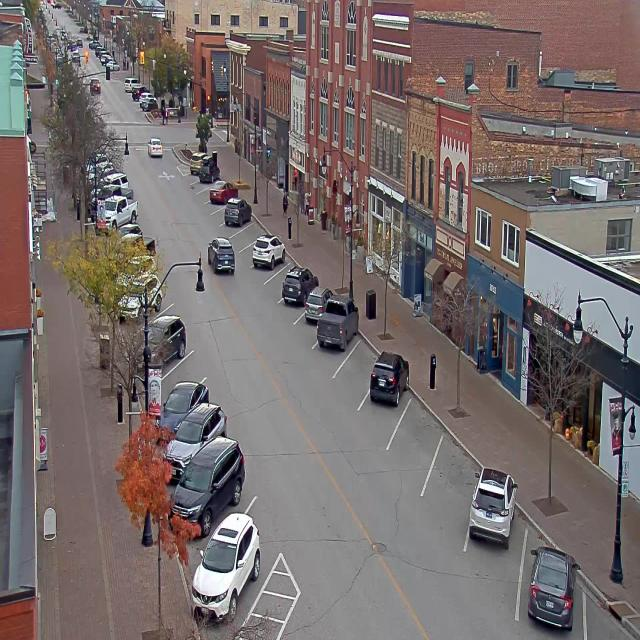available: (428, 434, 482, 526), (393, 389, 446, 468), (579, 586, 639, 639), (160, 342, 212, 387), (341, 333, 378, 391), (263, 253, 293, 298), (234, 213, 263, 246), (212, 204, 226, 228), (197, 185, 212, 205)
occupied: (168, 435, 246, 538), (200, 511, 265, 613), (526, 544, 580, 631), (164, 393, 232, 460), (468, 466, 517, 547), (154, 379, 208, 442), (316, 296, 358, 352), (368, 349, 409, 406), (142, 312, 186, 363), (282, 264, 318, 305), (252, 232, 285, 269), (306, 284, 328, 325), (224, 197, 252, 227), (209, 177, 239, 205), (198, 158, 219, 183), (190, 152, 208, 176)
